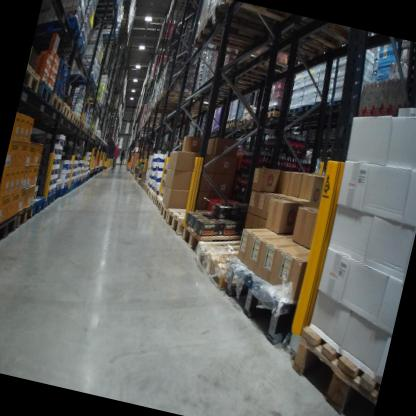pallet: (281, 314, 391, 416), (215, 259, 320, 347), (190, 223, 275, 306), (186, 13, 296, 71), (200, 0, 303, 58), (180, 217, 248, 269), (162, 196, 216, 245), (32, 24, 91, 67), (39, 6, 90, 54), (46, 63, 103, 98), (156, 79, 193, 111), (6, 202, 34, 243), (21, 62, 44, 103), (23, 192, 47, 227), (324, 95, 359, 119), (0, 211, 19, 252), (36, 74, 58, 108), (49, 87, 68, 117), (92, 28, 120, 48), (260, 108, 284, 126), (285, 102, 302, 124), (43, 187, 57, 213), (80, 96, 103, 110), (297, 98, 313, 116), (94, 0, 119, 11), (225, 116, 240, 134), (59, 100, 73, 119), (158, 202, 170, 222), (238, 115, 255, 129), (66, 107, 78, 126), (150, 188, 161, 208), (156, 195, 165, 212), (76, 117, 86, 132), (84, 126, 93, 139), (72, 114, 80, 128), (83, 122, 90, 133), (98, 104, 104, 112)
